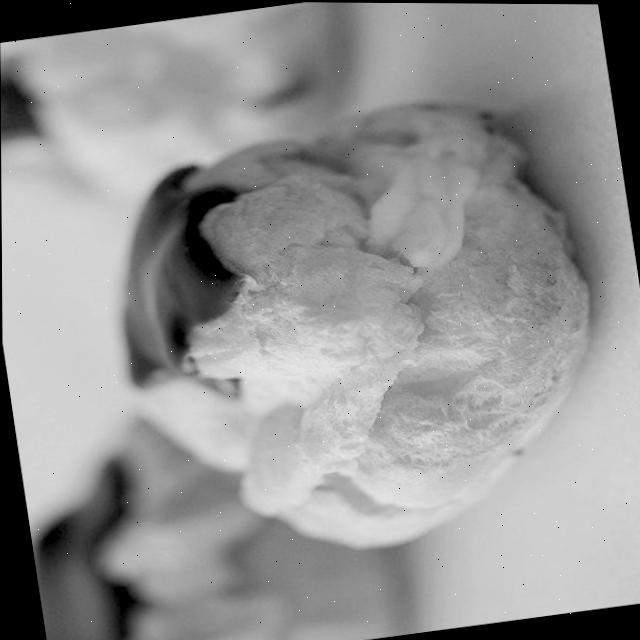炸货点心: (72, 46, 634, 598)
蛋糕甜品: (72, 46, 634, 598)
